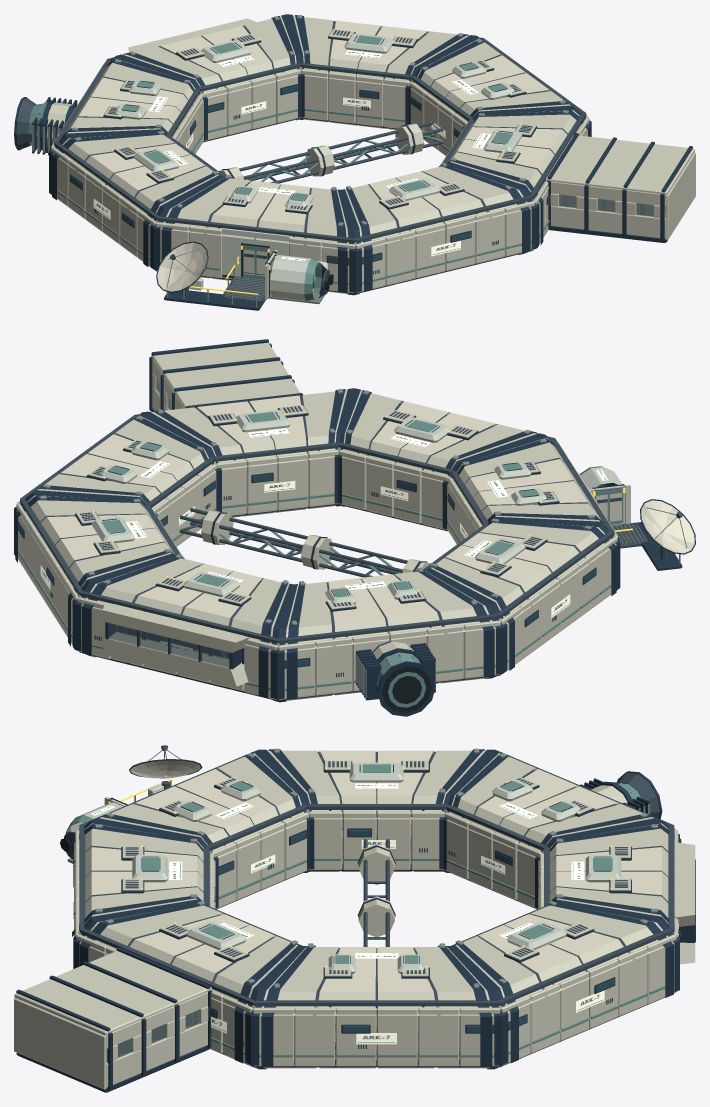
Rendered from Kervan_ARK7.glb.
3 renders of one model, top to bottom at view 1: azimuth 30°, elevation 25°; view 2: azimuth 150°, elevation 25°; view 3: azimuth 270°, elevation 25°, orthographic. The views are drawn at different scales.
Visible parts, largest first — view 1: YasamAlani_KamaraGovdesi, Iletisim_GovdePanelleri, HavaKilidi_DisZirh, Iletisim_DisZirh, Kargo_DisZirh, YasamDestegi_DisZirh, Kopru_DisZirh, YasamAlani_DisZirh, Revir_DisZirh, Reaktor_DisZirh, YasamDestegi_GovdePanelleri, Kargo_GovdePanelleri (+36 smaller); view 2: Reaktor_DisZirh, YasamAlani_KamaraGovdesi, Kopru_DisZirh, Reaktor_GovdePanelleri, Kargo_DisZirh, Kopru_GozlemCumbasi, YasamAlani_DisZirh, Iletisim_DisZirh, YasamDestegi_DisZirh, Revir_DisZirh, HavaKilidi_DisZirh, YasamAlani_GovdePanelleri (+35 smaller); view 3: YasamAlani_KamaraGovdesi, Revir_GovdePanelleri, Revir_DisZirh, YasamDestegi_DisZirh, YasamDestegi_GovdePanelleri, YasamAlani_DisZirh, Kargo_DisZirh, HavaKilidi_DisZirh, Reaktor_DisZirh, Iletisim_DisZirh, Kopru_DisZirh, Kargo_GovdePanelleri (+35 smaller).
Part boxes in pixels (left/top/right/bottom): YasamAlani_KamaraGovdesi: left=545, top=133, right=695, bottom=242; Iletisim_GovdePanelleri: left=355, top=201, right=534, bottom=292; HavaKilidi_DisZirh: left=153, top=176, right=355, bottom=295; Iletisim_DisZirh: left=341, top=163, right=537, bottom=295; Kargo_DisZirh: left=49, top=131, right=221, bottom=268; YasamDestegi_DisZirh: left=287, top=14, right=476, bottom=129; Kopru_DisZirh: left=116, top=14, right=301, bottom=142; YasamAlani_DisZirh: left=447, top=108, right=591, bottom=247; Revir_DisZirh: left=409, top=36, right=574, bottom=155; Reaktor_DisZirh: left=50, top=56, right=204, bottom=153; YasamDestegi_GovdePanelleri: left=301, top=69, right=410, bottom=128; Kargo_GovdePanelleri: left=51, top=147, right=156, bottom=266; Reaktor_DisZirh: left=277, top=569, right=503, bottom=702; YasamAlani_KamaraGovdesi: left=149, top=339, right=302, bottom=410; Kopru_DisZirh: left=74, top=555, right=293, bottom=702; Reaktor_GovdePanelleri: left=278, top=620, right=500, bottom=699; Kargo_DisZirh: left=427, top=518, right=620, bottom=673; Kopru_GozlemCumbasi: left=101, top=602, right=249, bottom=686; YasamAlani_DisZirh: left=143, top=388, right=354, bottom=517; Iletisim_DisZirh: left=338, top=388, right=544, bottom=531; YasamDestegi_DisZirh: left=14, top=492, right=174, bottom=648; Revir_DisZirh: left=16, top=412, right=218, bottom=546; HavaKilidi_DisZirh: left=446, top=434, right=619, bottom=544; YasamAlani_GovdePanelleri: left=216, top=449, right=338, bottom=515; YasamAlani_KamaraGovdesi: left=14, top=947, right=212, bottom=1092; Revir_GovdePanelleri: left=253, top=1007, right=500, bottom=1066; Revir_DisZirh: left=251, top=946, right=502, bottom=1069; YasamDestegi_DisZirh: left=451, top=901, right=679, bottom=1068; YasamDestegi_GovdePanelleri: left=500, top=934, right=676, bottom=1065; YasamAlani_DisZirh: left=73, top=901, right=301, bottom=1067; Kargo_DisZirh: left=259, top=749, right=494, bottom=872; HavaKilidi_DisZirh: left=73, top=749, right=309, bottom=908; Reaktor_DisZirh: left=443, top=750, right=661, bottom=908; Iletisim_DisZirh: left=73, top=820, right=215, bottom=940; Kopru_DisZirh: left=538, top=820, right=679, bottom=940; Kargo_GovdePanelleri: left=308, top=811, right=444, bottom=869.
Size of the model in its own units: 36.39 by 4.83 by 35.23.
24 materials, 1 textured.
